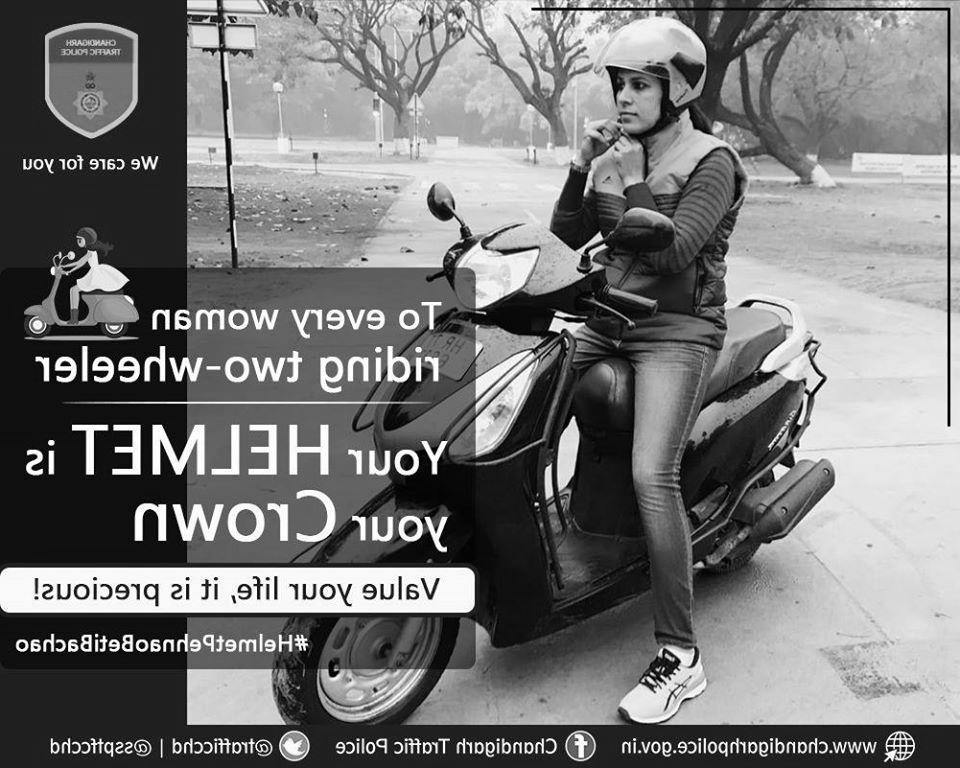Helmet: (603, 16, 707, 130)
